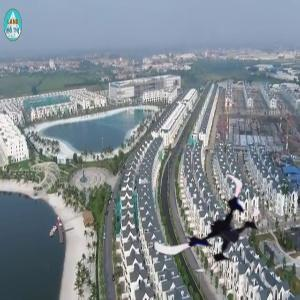drone: (164, 171, 273, 280)
